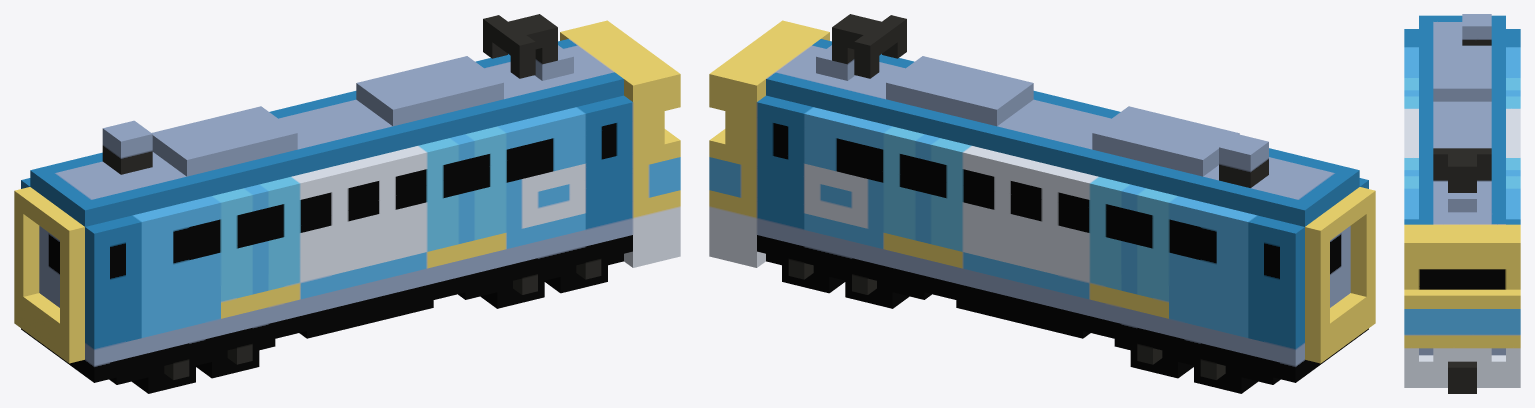
File: train.glb
3 views of the same model, side by side, from view 1: azimuth 30°, elevation 25°; view 2: azimuth 150°, elevation 25°; view 3: azimuth 270°, elevation 25° (orthographic). The views are drawn at different scales.
Parts seen in each view (by area): view 1: Object_2; view 2: Object_2; view 3: Object_2.
Boxes of the visible parts, x1,y1,x2,y2 form: Object_2: [14, 14, 680, 393]; Object_2: [709, 14, 1375, 393]; Object_2: [1404, 14, 1520, 393].
Bounding box in the file's own units: 8.13 × 3.13 × 1.67.
1 material, 1 textured.
